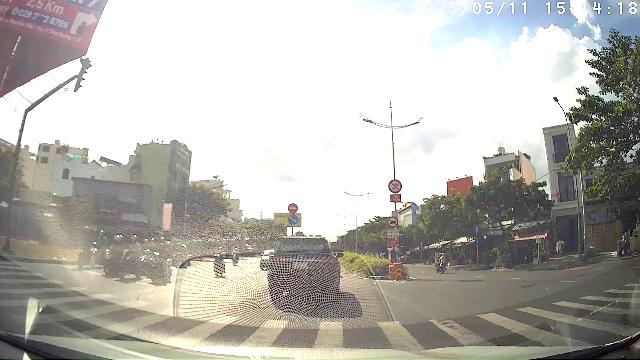102-cam-di-nguoc-chieu: (288, 203, 298, 213)
302a-huong-phai-di-vong-chuong-ngai-vat-1: (288, 214, 298, 224)
